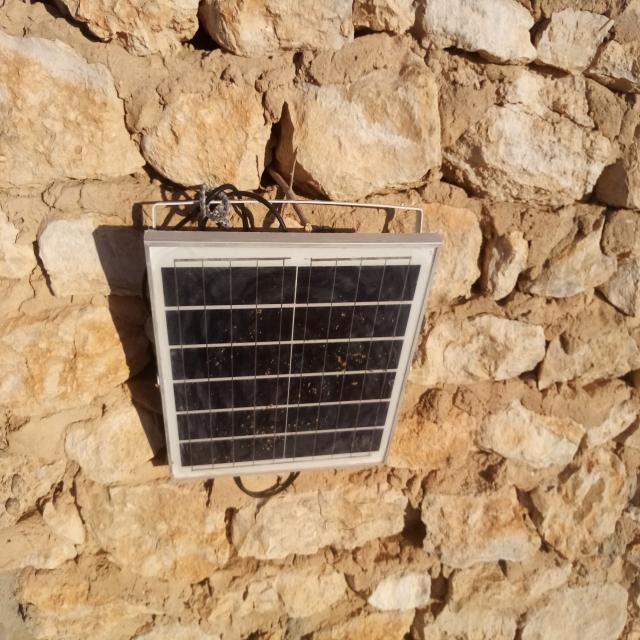faulty: (147, 242, 440, 479)
